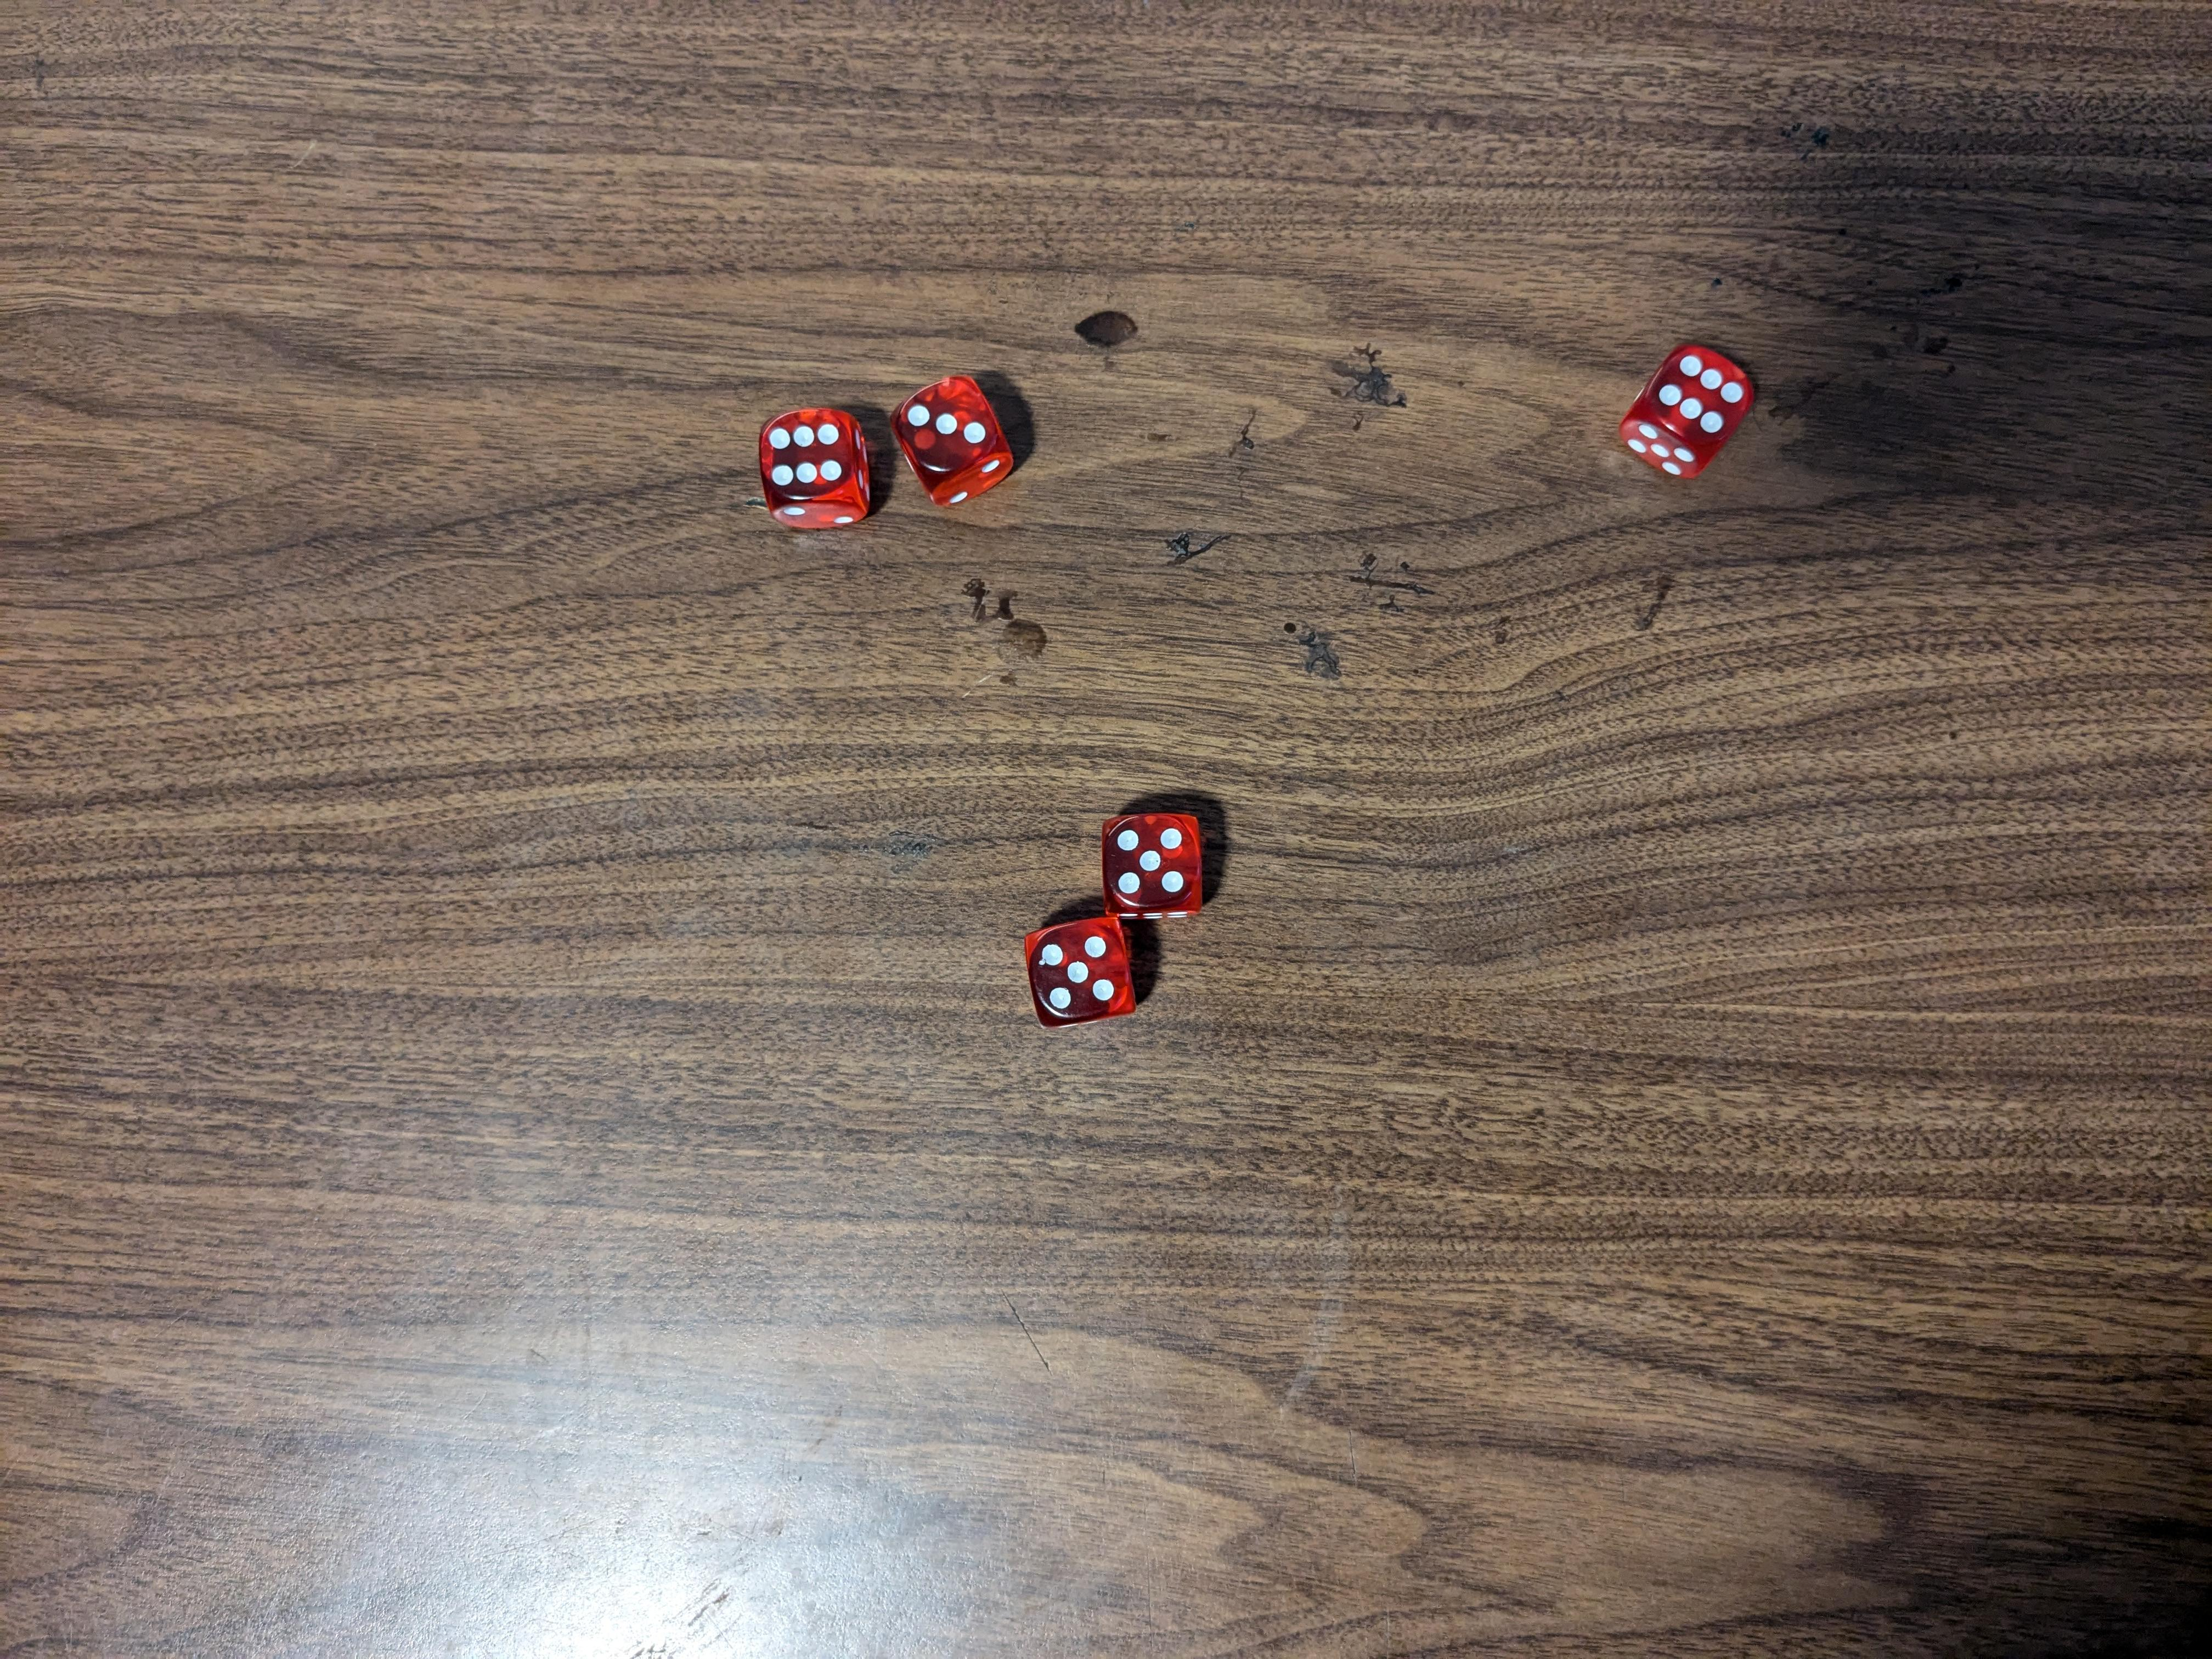five: (1022, 917, 1143, 1033), (1097, 805, 1205, 913)
six: (1622, 338, 1754, 479), (752, 408, 880, 533)
three: (892, 371, 1015, 509)
